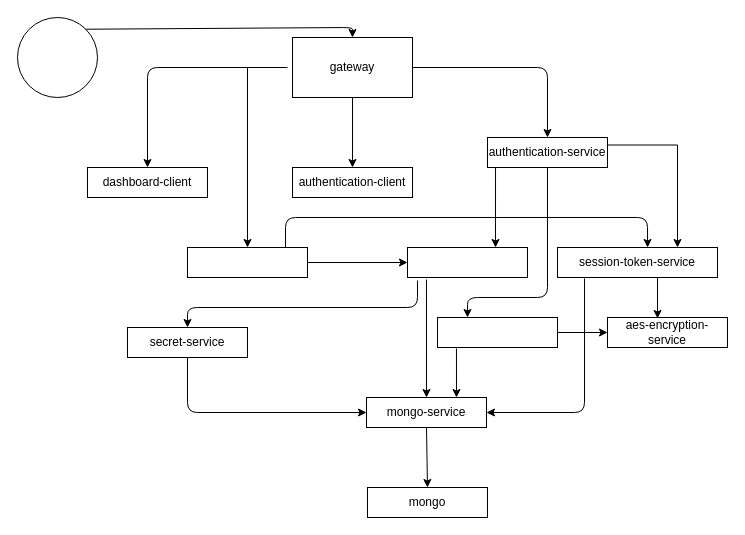
This 745x535 diagram has some shape labels left out. The shapes that lost their labels are listed below. From the top down, each one's centre as x and y in pixels, then its label:
the point at 57,57: user
the point at 247,262: dashboard-service
the point at 467,262: account-service
the point at 497,332: email-service
